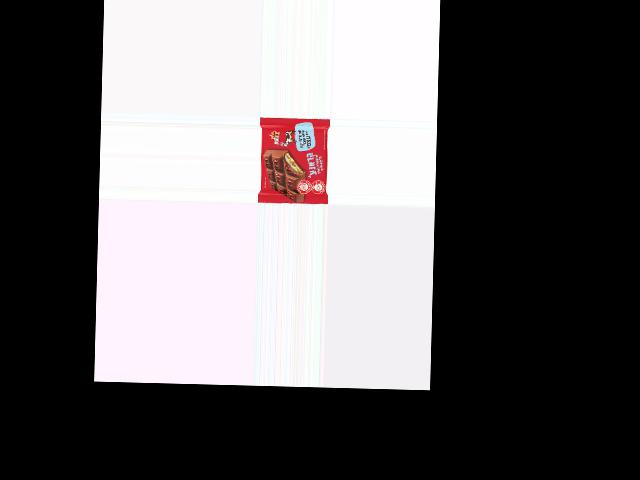chocolate: (258, 120, 330, 203)
